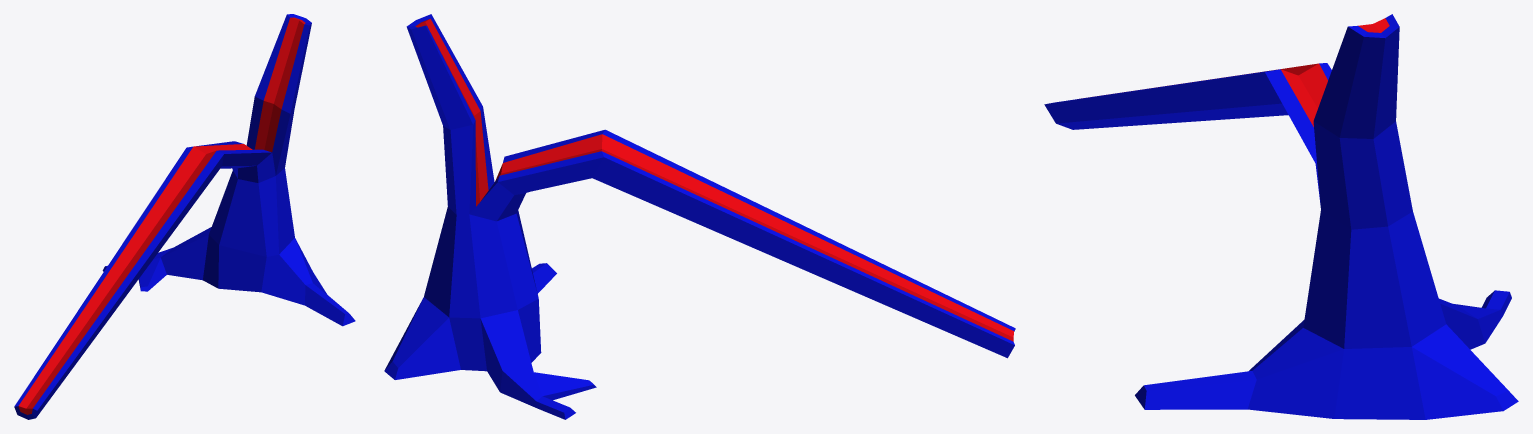
Rendered from SM_TreeStump6.fbx.
The picture shows the model from 3 angles, left to right: view 1: azimuth 30°, elevation 25°; view 2: azimuth 150°, elevation 25°; view 3: azimuth 270°, elevation 25°; orthographic projection. The views are drawn at different scales.
Parts seen in each view (by area): view 1: SM_TreeStump6; view 2: SM_TreeStump6; view 3: SM_TreeStump6.
Boxes of the visible parts, x1,y1,x2,y2 form: SM_TreeStump6: (14, 14, 355, 419); SM_TreeStump6: (384, 14, 1015, 419); SM_TreeStump6: (1044, 14, 1518, 419).
Size of the model in its own units: 277 by 171 by 183.
